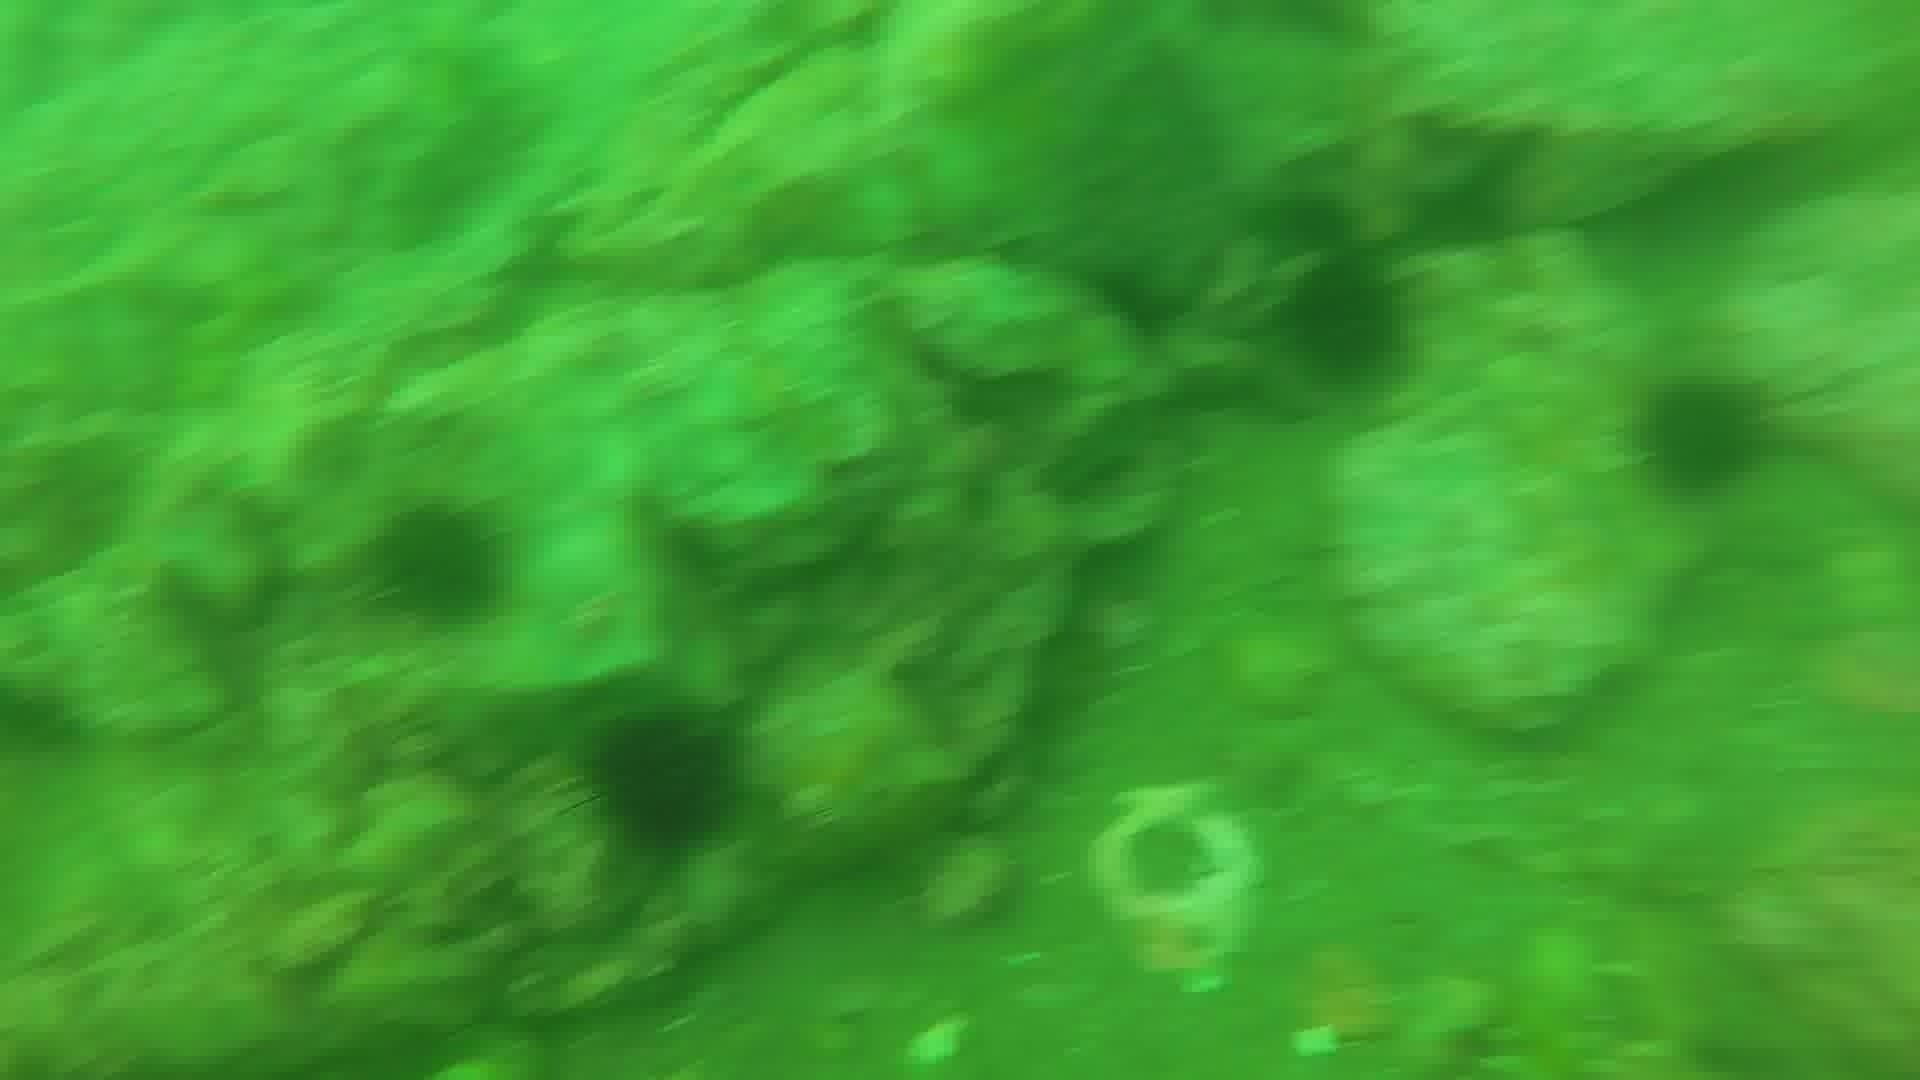echinus: (575, 703, 742, 856), (365, 497, 510, 629), (1630, 371, 1776, 501), (1280, 255, 1408, 385), (1, 670, 88, 765), (1258, 185, 1360, 261)
holothurian: (380, 41, 539, 248)
